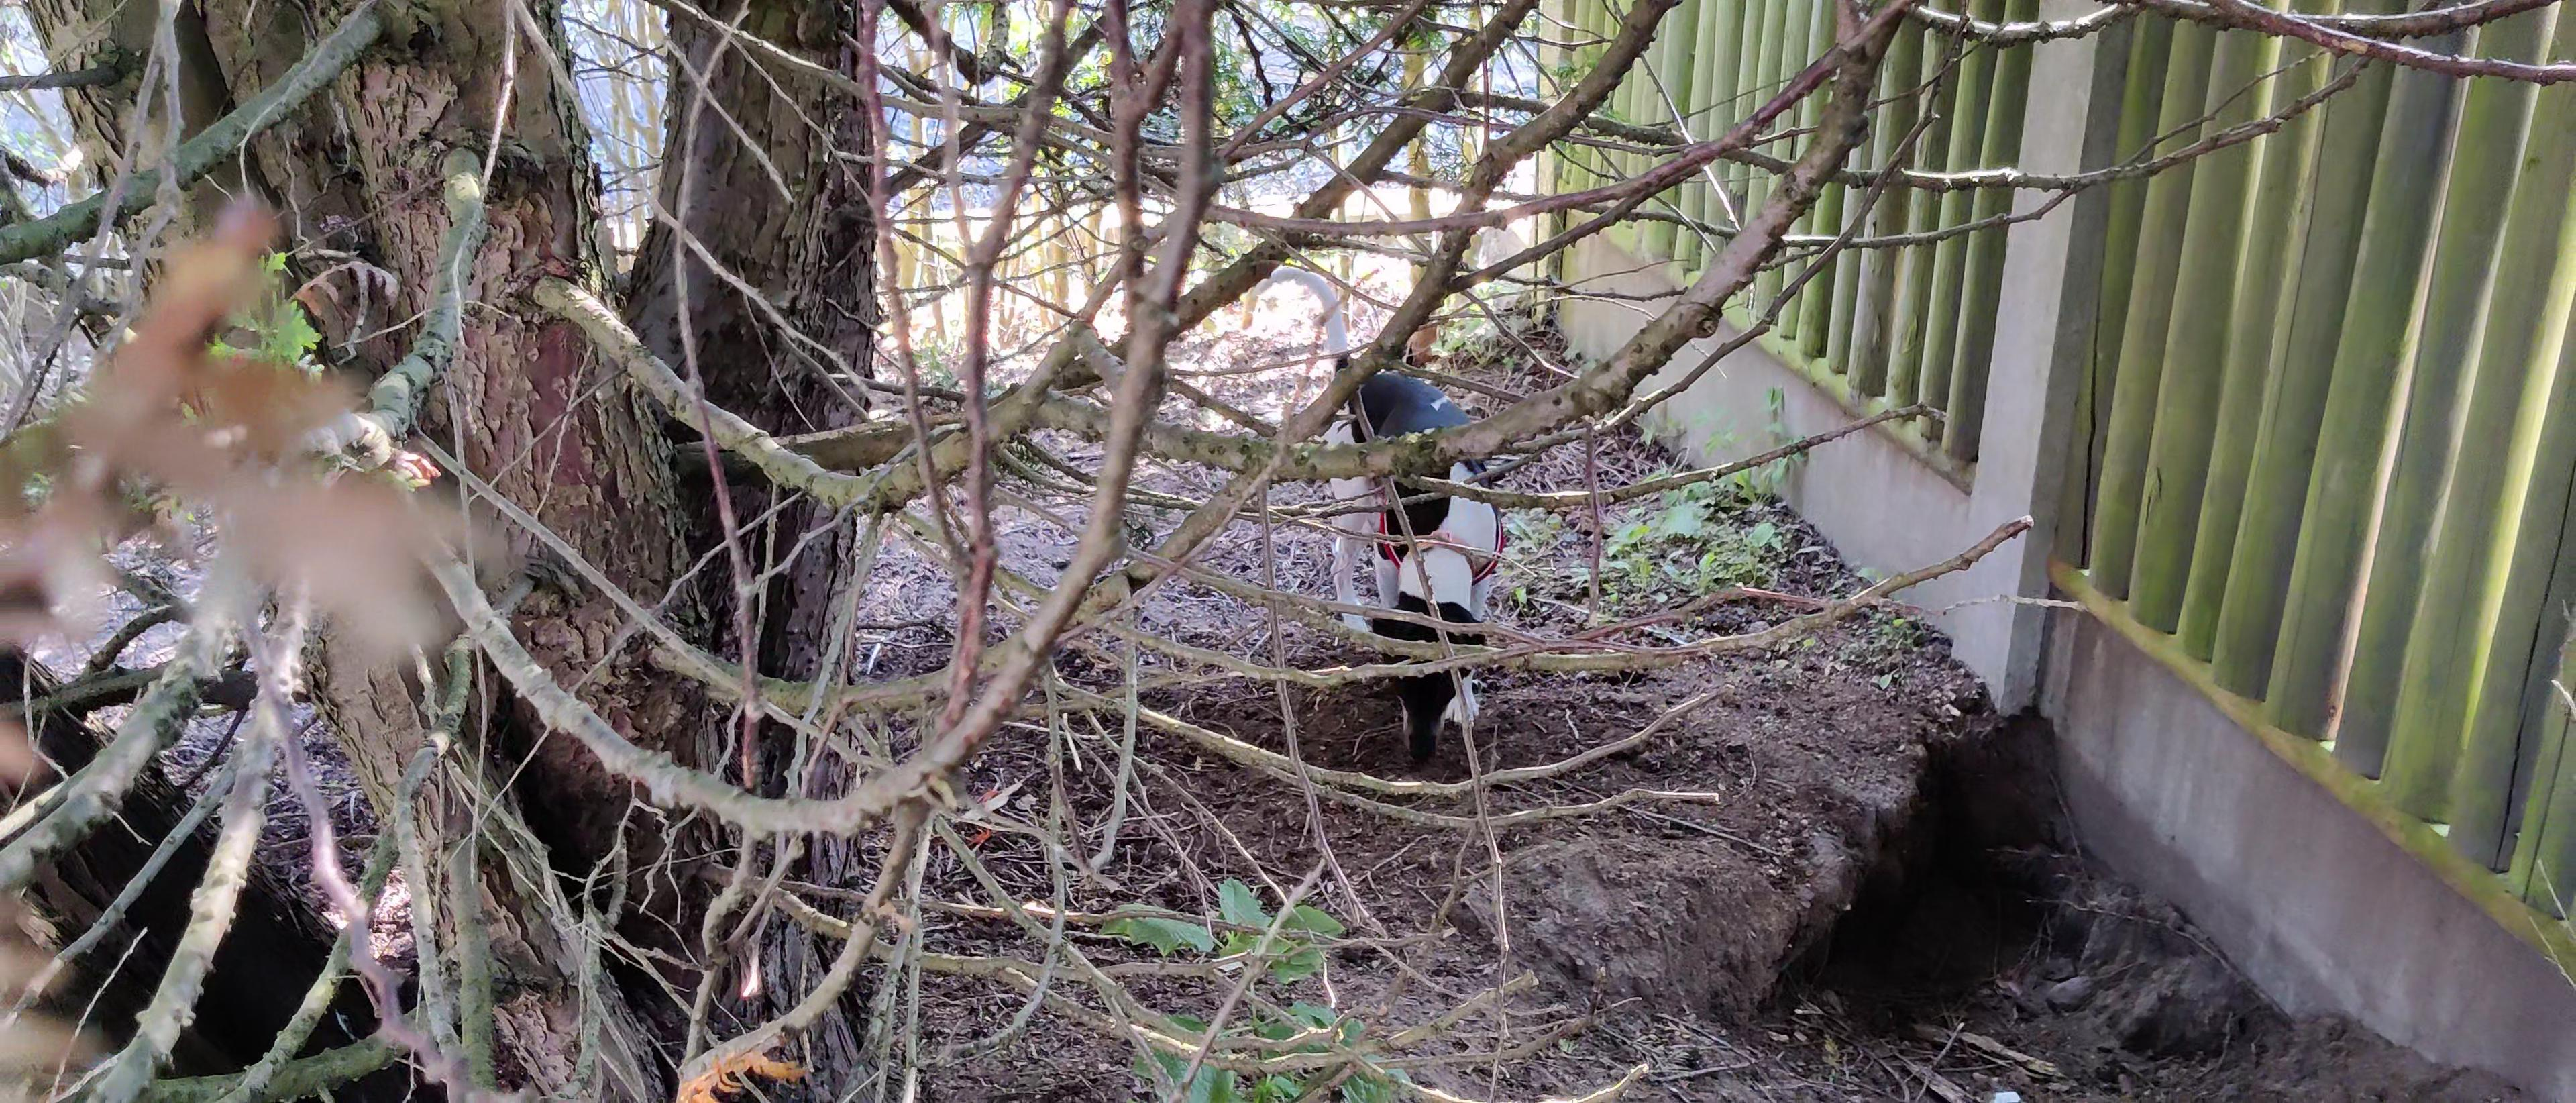Dog: (1240, 247, 1525, 763)
